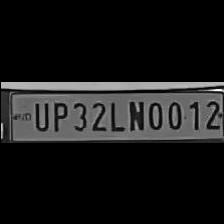0: (143, 97, 163, 129), (164, 97, 182, 129)
1: (183, 96, 200, 130)
2: (200, 96, 222, 130), (88, 97, 106, 131)
3: (69, 97, 87, 131)
L: (105, 96, 123, 132)
N: (124, 96, 144, 132)
P: (48, 98, 68, 132)
U: (28, 97, 48, 131)
